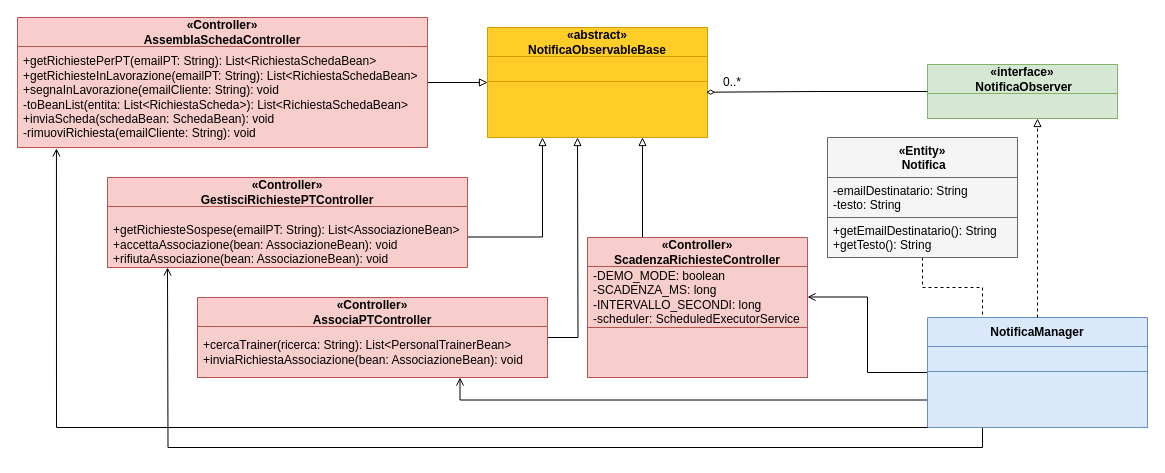
This 1165x473 diagram has some shape labels left out. The shapes that lost their labels are listed below. From the top down, each one's centre as x and y in pixels, then its label:
point (597, 69): -observers: List<NotificaObserver>
point (597, 109): +aggiungiObserver(...) +rimuoviObserver(...) +notificaObserver(...)
point (1022, 105): +onNotifica(n: Notifica)
point (697, 352): +avvia(): void +ferma(): void -controllaScadenze(): void
point (1037, 359): -dao: NotificaDAO
point (1037, 399): +onNotifica(n: Notifica) +mostraNotifichePendenti(email)
